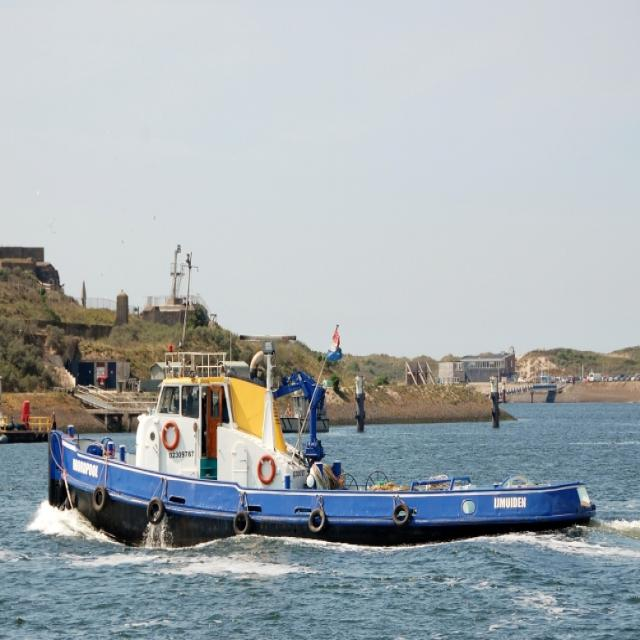tugboat: (45, 250, 603, 568)
